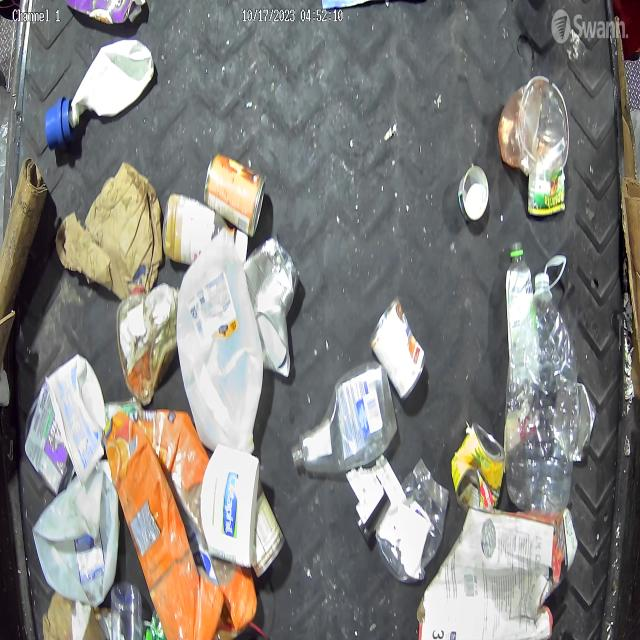can: (369, 295, 426, 400), (452, 424, 506, 514), (244, 237, 298, 317)
milk_jug: (177, 231, 263, 454), (32, 462, 117, 608)
plastic_bottle: (504, 242, 536, 366), (573, 382, 597, 464)
